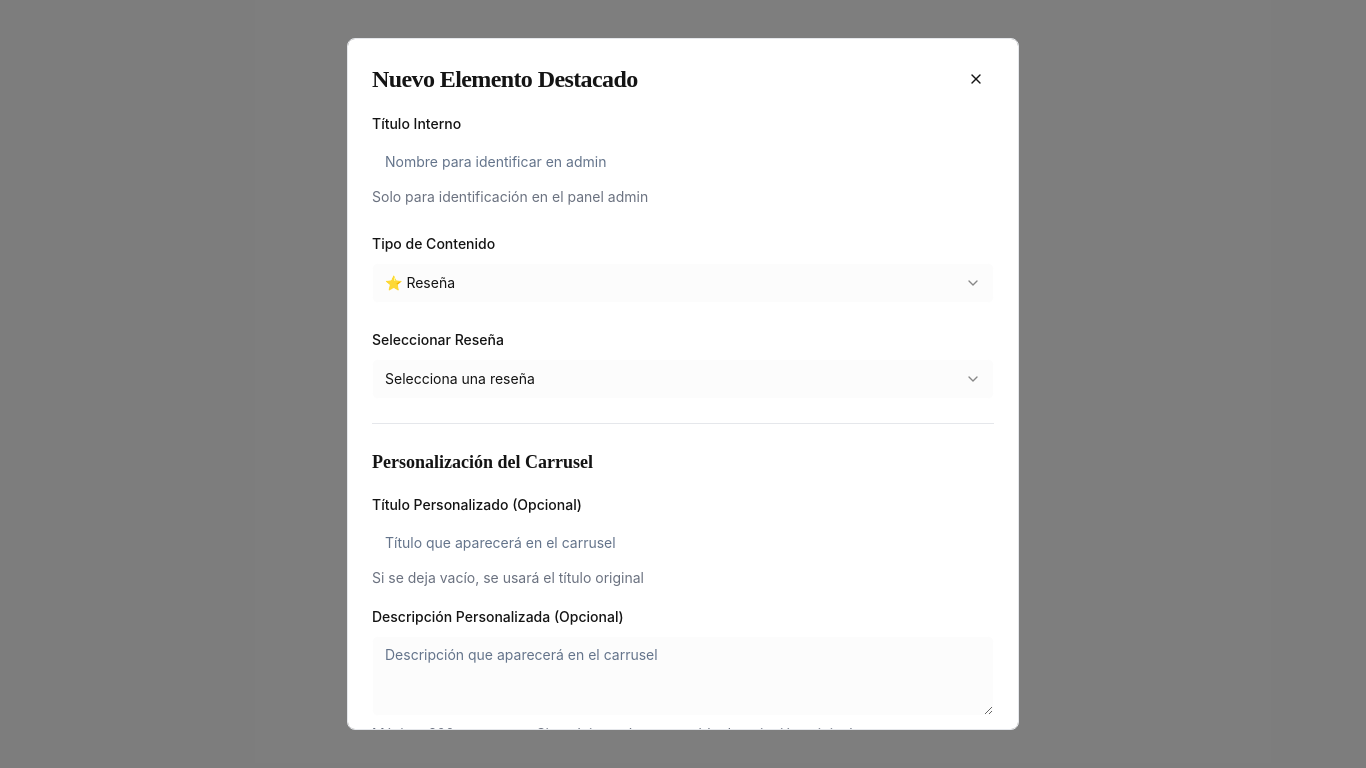
Scenario: Featured Items Form › Preview Functionality › should show preview when preview button is clicked
Fill required fields first
Type "Test Item" into the field labelled "Título Interno" at [683, 161], box [372, 143, 994, 179]
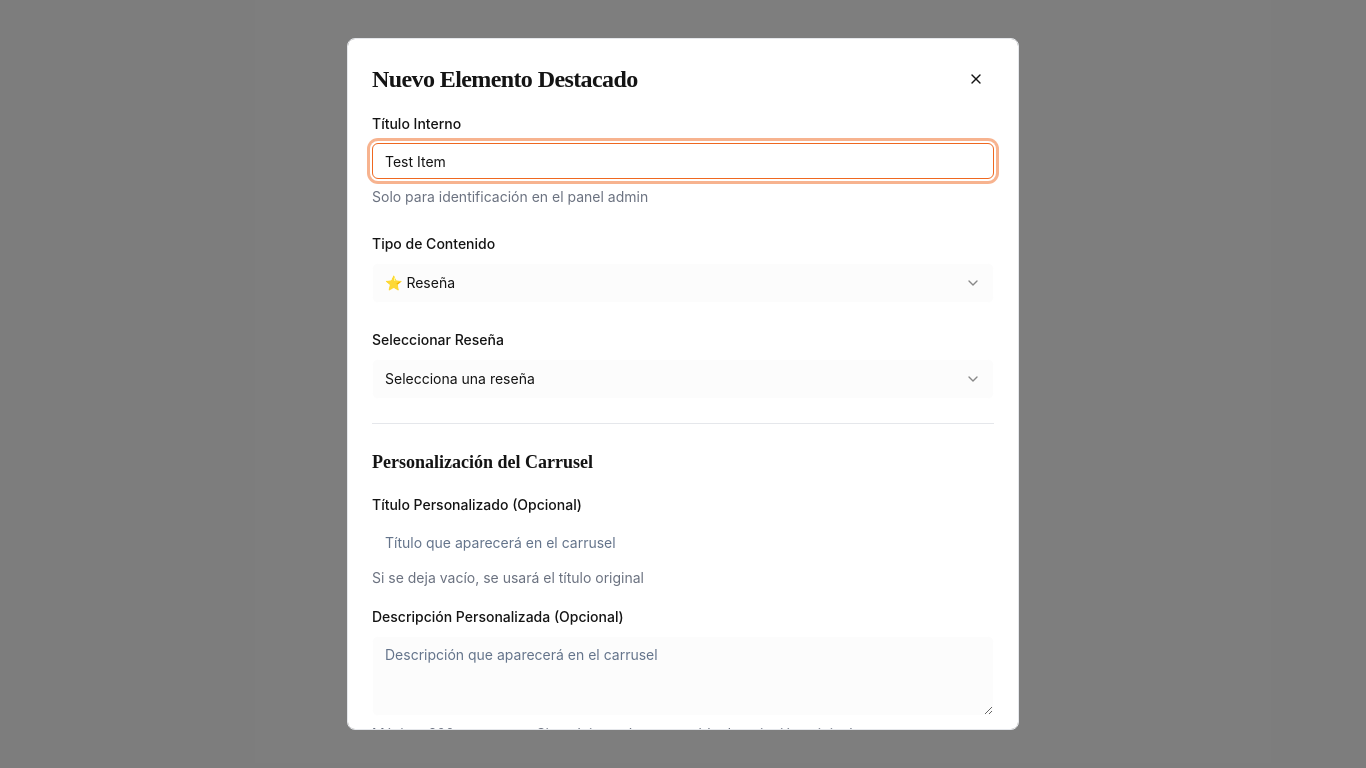
Change type to collection (doesn't require reference)
Click the dropdown named "tipo" at [420, 283], box [372, 263, 994, 303]
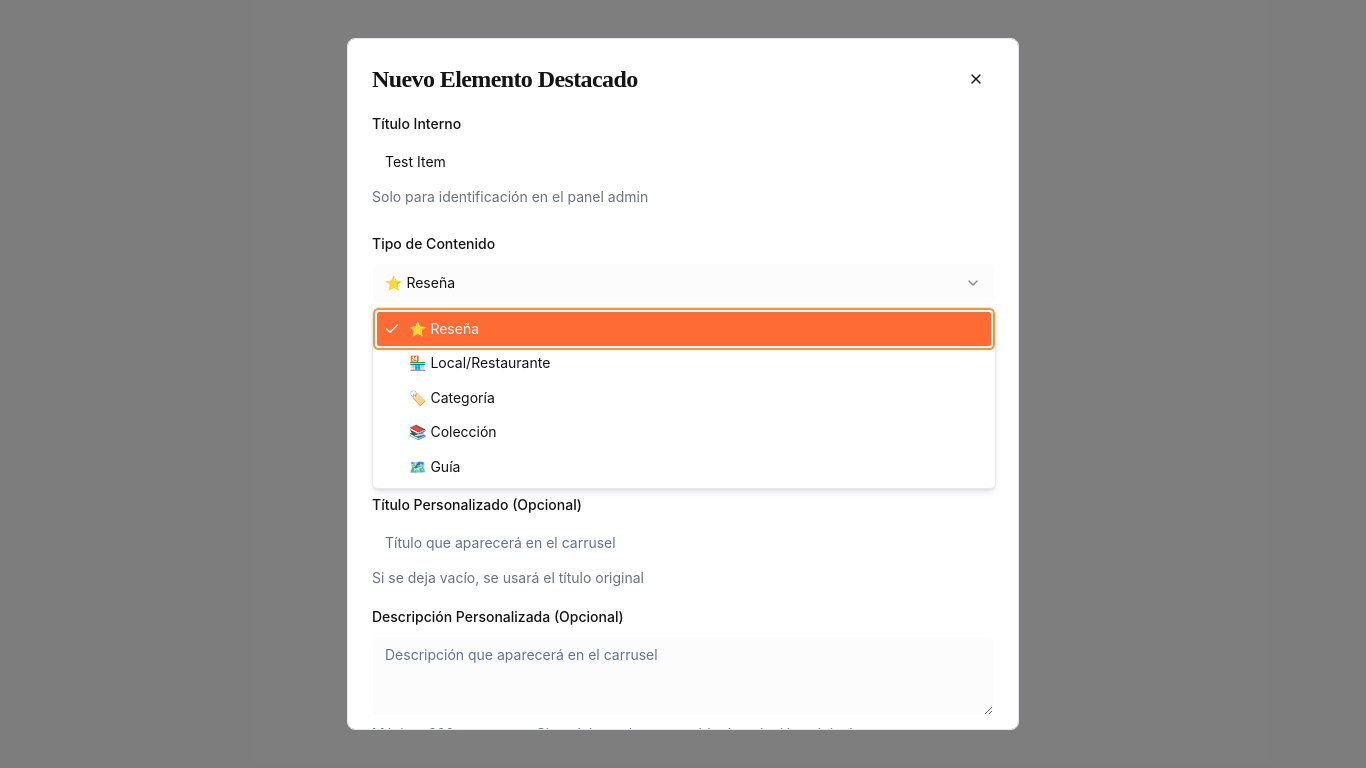
Click the option "📚 Colección" at [453, 432], box [409, 423, 497, 440]
(page scrolled)
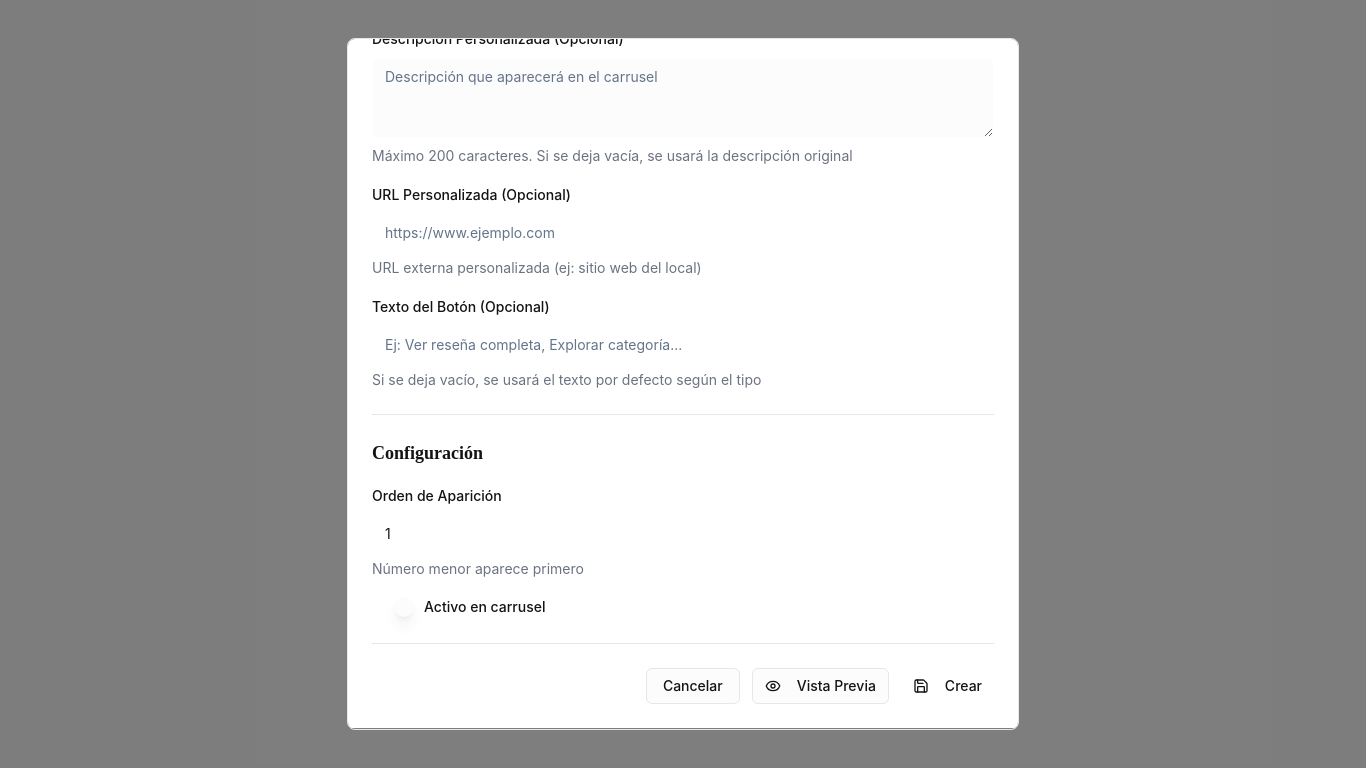
Click the button "Vista Previa" at [820, 686], box [752, 668, 889, 704]
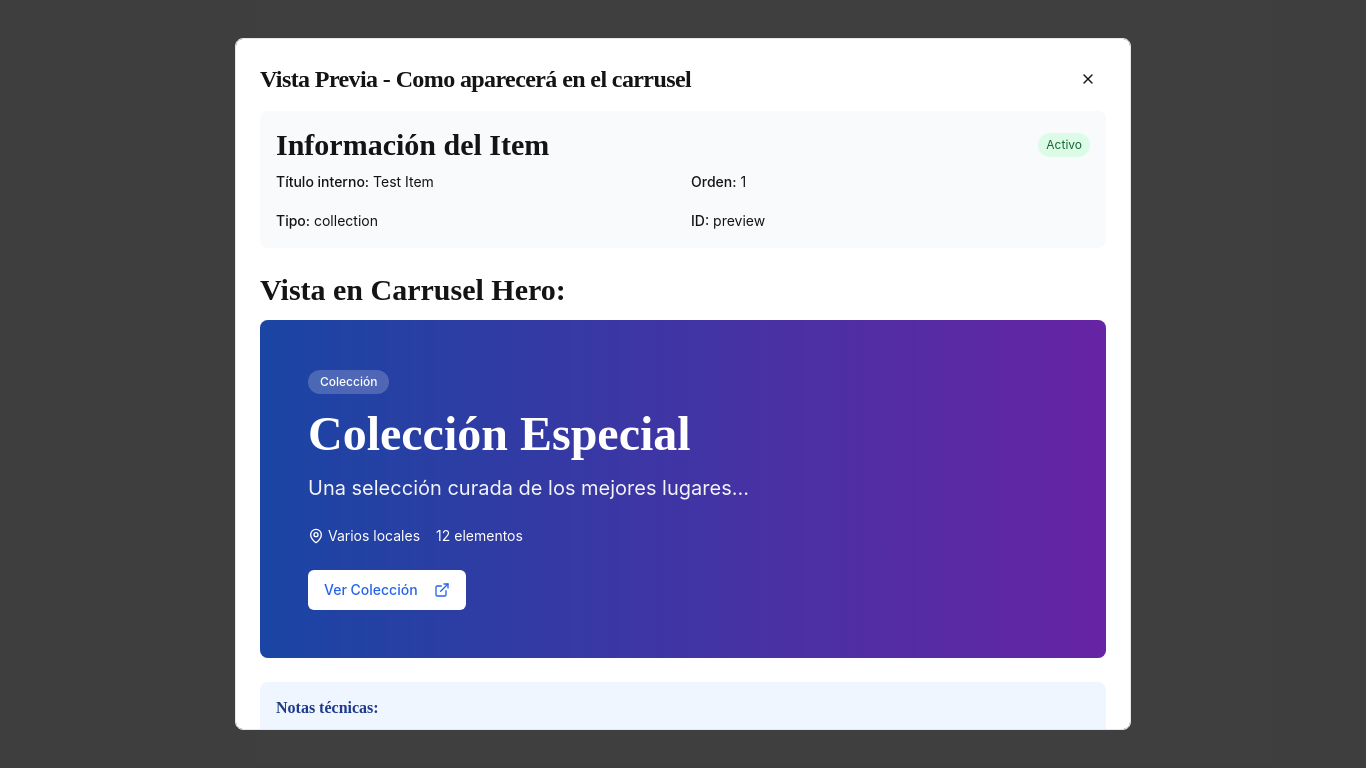
Result: the element with test id "featured-item-preview" is shown
